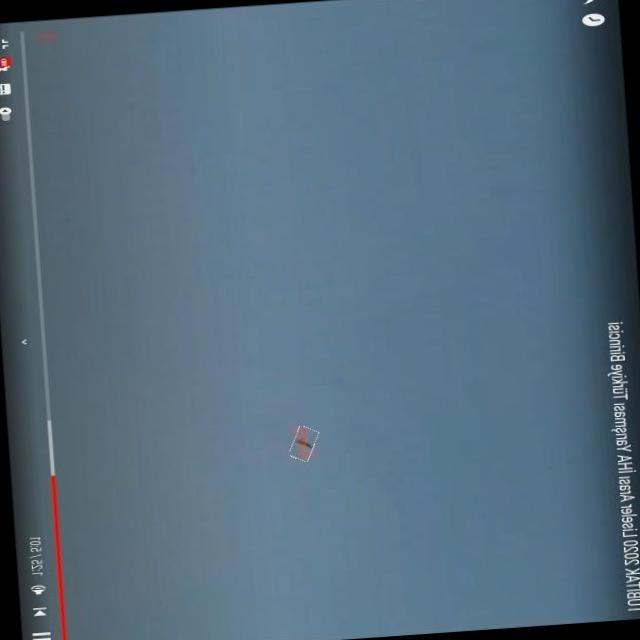UAV: (284, 403, 350, 472)
